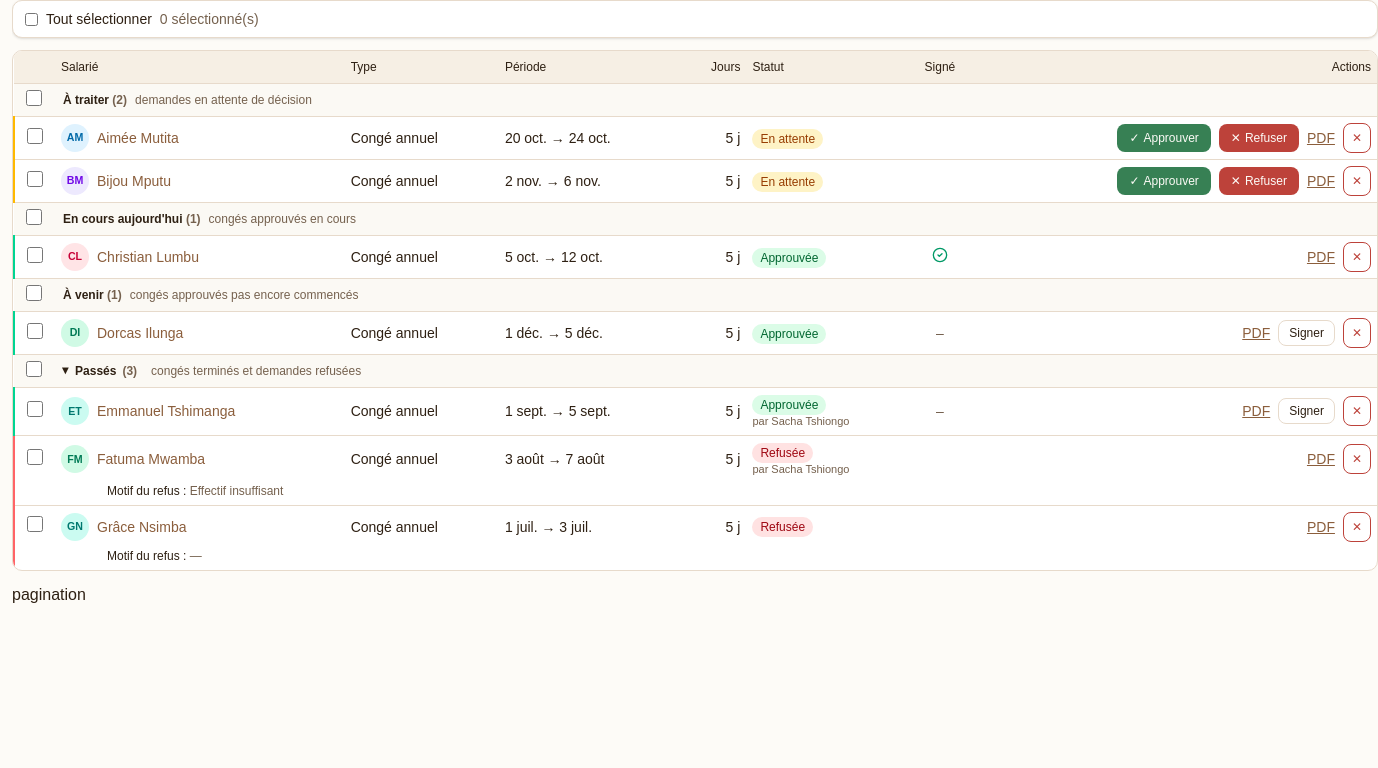
Test case: actions groupées › replier « Passés » désélectionne ce qui disparaît de l'écran (on n'agit jamais sur ce qu'on ne voit pas)
Click the checkbox named "Sélectionner la demande de Emmanuel Tshimanga (Congé annuel)". click: click(35, 409)
box: x1=27 y1=401 x2=43 y2=417
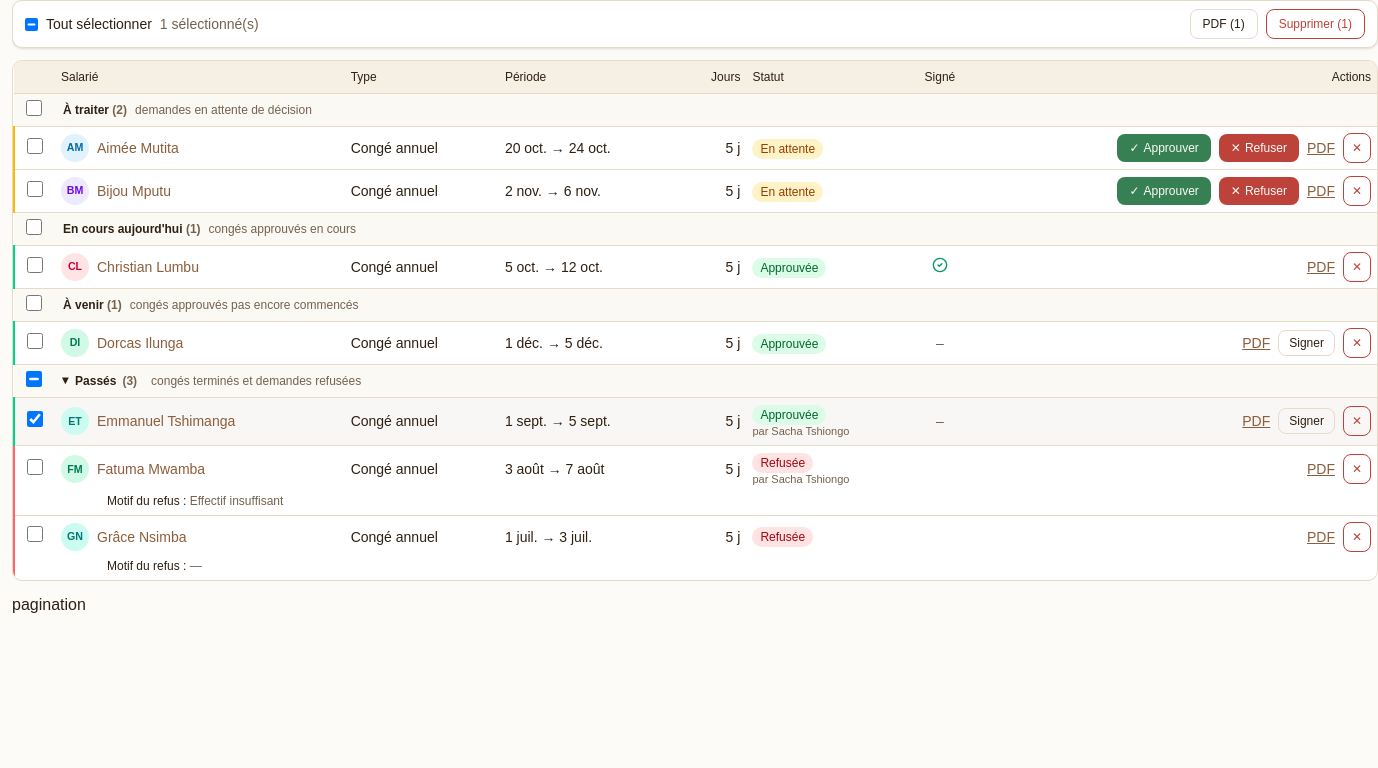
Expected: the text "1 sélectionné(s)" is shown, x1=160 y1=14 x2=259 y2=34
Click the button "▸ Passés (3) congés terminés et demandes refusées". click: click(212, 381)
box: x1=63 y1=373 x2=361 y2=389
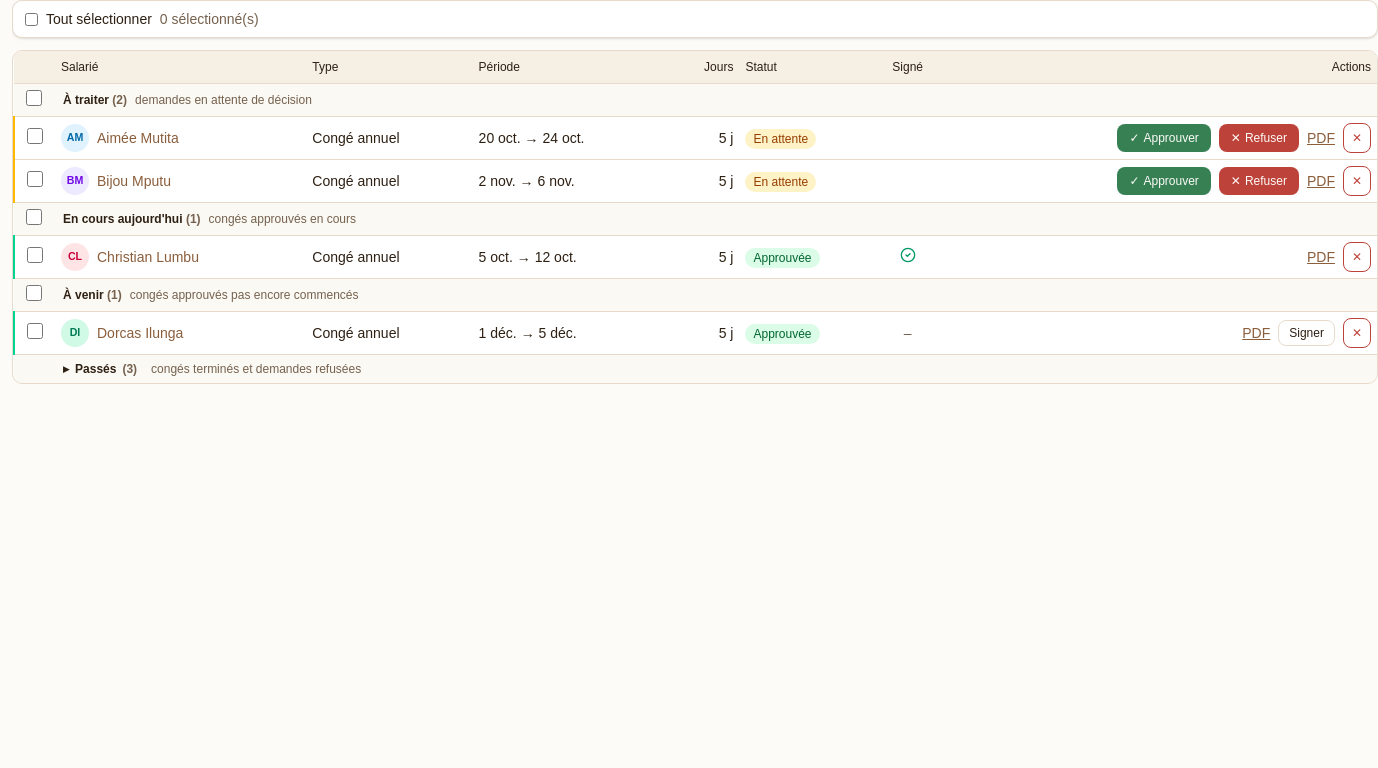
Expected: the text "0 sélectionné(s)" is shown, x1=160 y1=9 x2=259 y2=29
